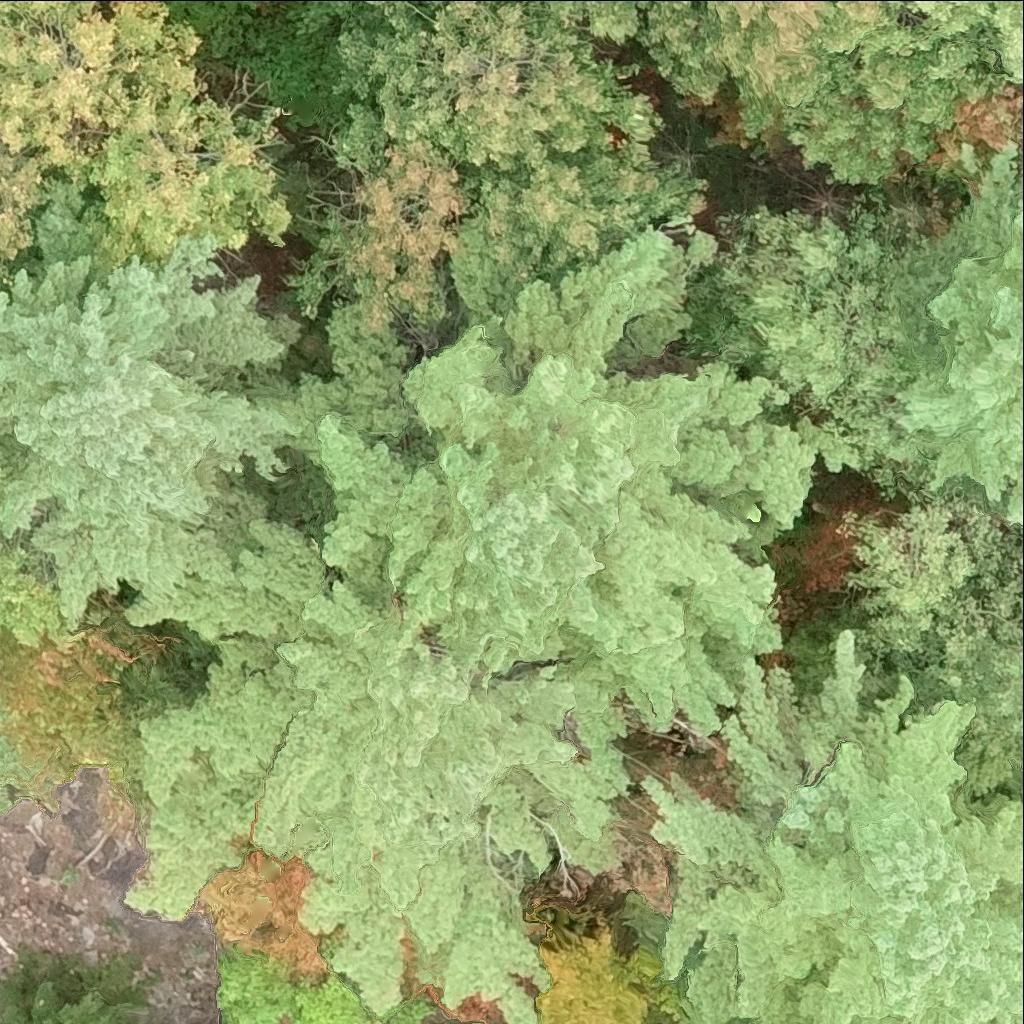crown: (256, 232, 816, 735), (125, 517, 627, 1023), (0, 200, 299, 623), (650, 706, 1023, 1023), (631, 0, 990, 183), (333, 0, 662, 179), (281, 137, 531, 370), (839, 505, 1023, 795), (721, 208, 910, 475), (897, 146, 1023, 522), (447, 157, 707, 322), (79, 91, 290, 274), (0, 0, 203, 181), (728, 630, 916, 812), (0, 591, 161, 795), (203, 846, 335, 984), (217, 954, 431, 1023), (0, 461, 72, 649), (519, 918, 643, 1023), (0, 954, 150, 1023), (900, 0, 1023, 80), (0, 145, 61, 295), (514, 0, 649, 41), (0, 744, 27, 808), (0, 709, 6, 719)
